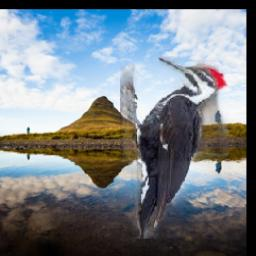Woodpecker: (120, 57, 228, 240)
